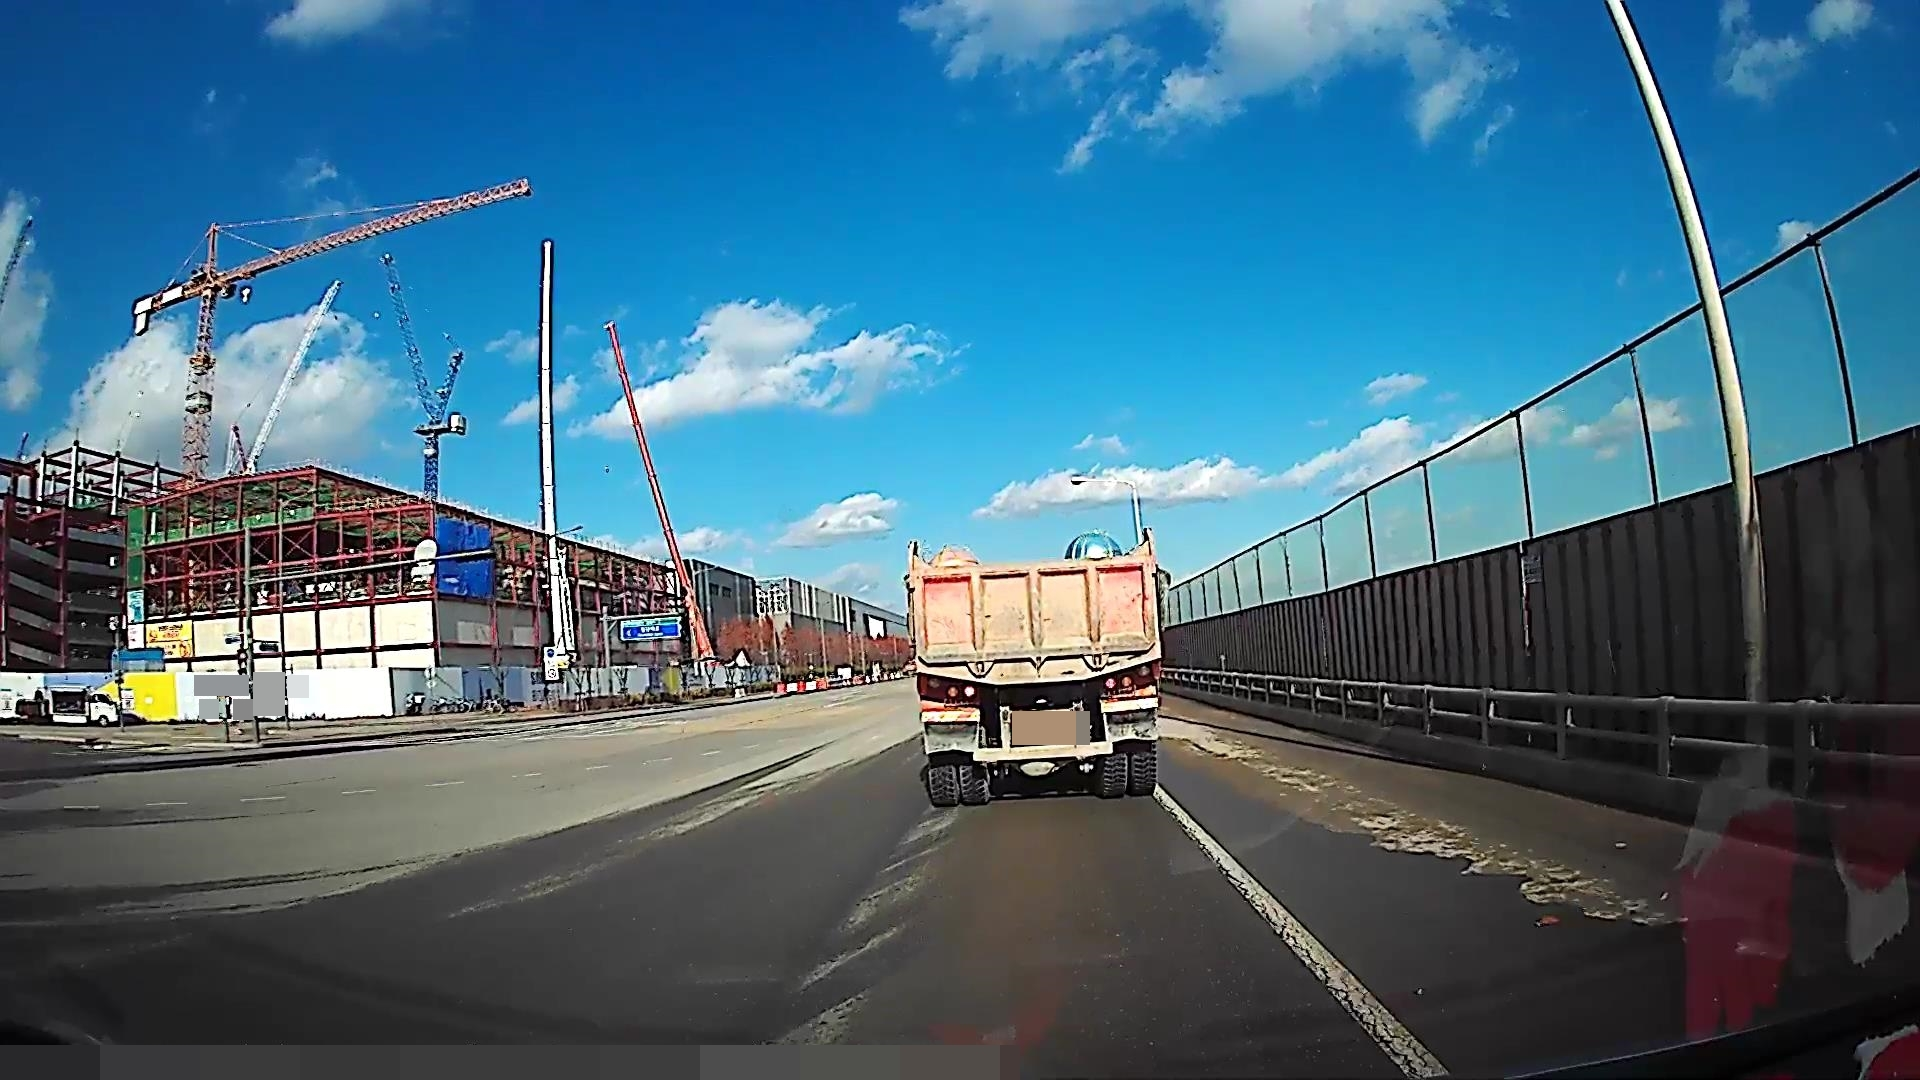불법차량: (901, 527, 1175, 810)
